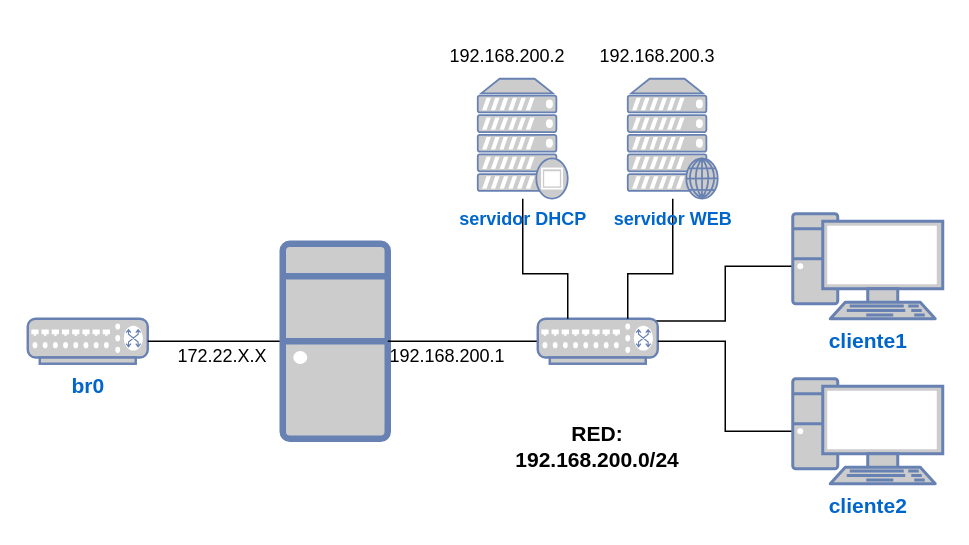
Some shapes in this 969 by 545 pixel diagram are drawn without their labels. The centre of each missing label's shape, as x and y in pixels:
"br-intra" goes at pixel 597 340.
"router" goes at pixel 334 341.
